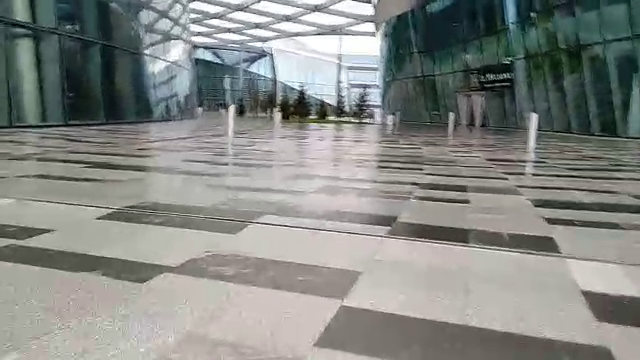ilmalione: (465, 63, 520, 94)
